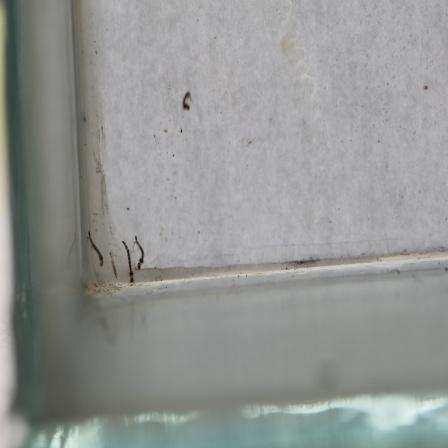Jentik-Nyamuk: (121, 232, 148, 285), (83, 229, 105, 267), (178, 88, 195, 113)
